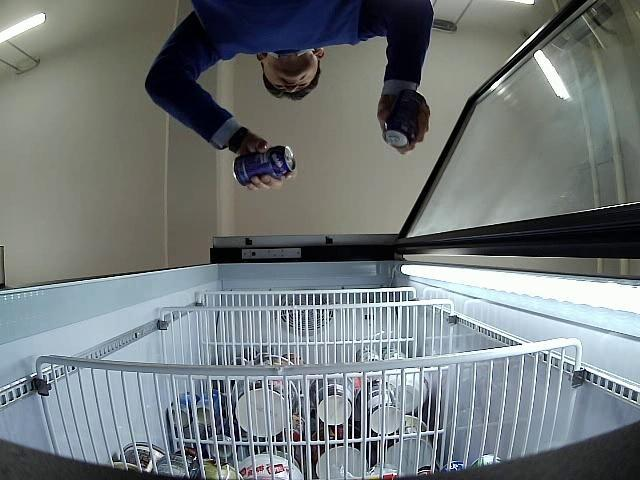14_welchsGrape: (232, 146, 296, 186), (384, 90, 426, 147)
